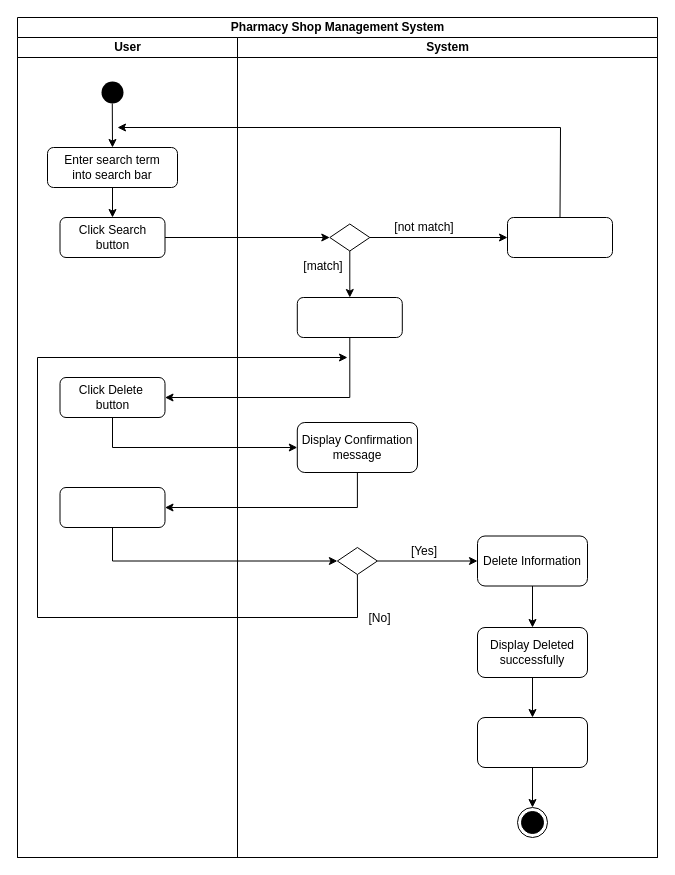
Image size: 675x875. Some labels were removed from this diagram. Each missing label, with the centre of its shape:
"Choose Option" belongs at (x=112, y=507).
"Display again information & option page" belongs at (x=532, y=742).
"Display Error message" belongs at (x=559, y=237).
"Display related details" belongs at (x=349, y=317).
